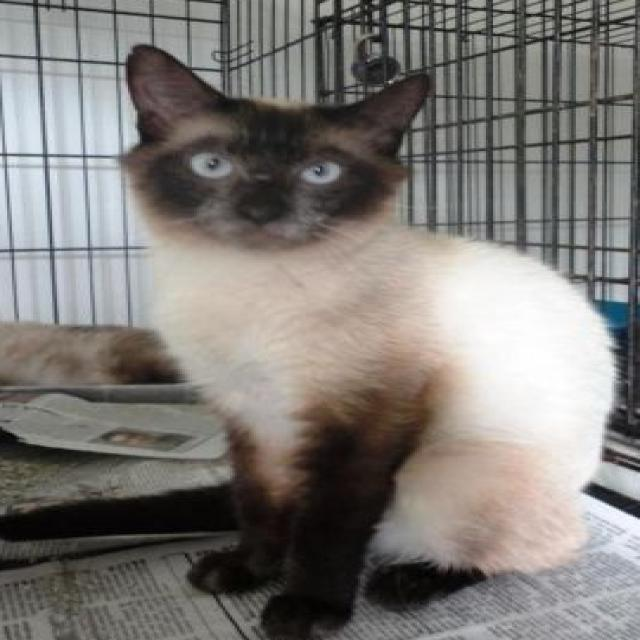Birman: (0, 39, 621, 637)
